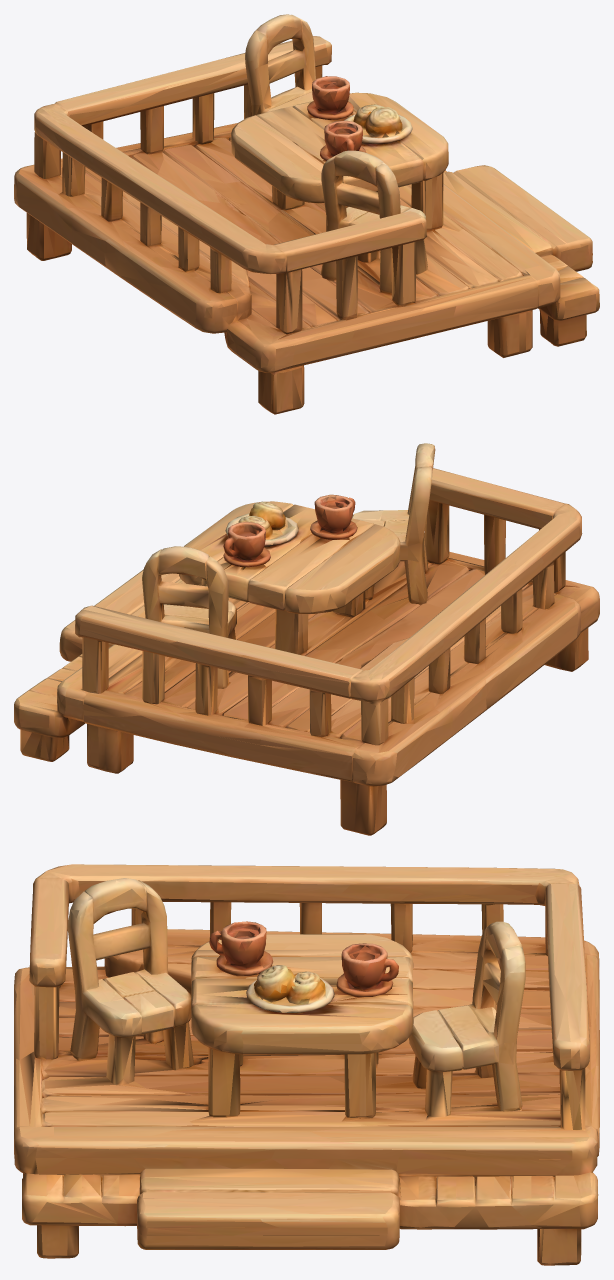
The picture shows the model from 3 angles, top to bottom: view 1: azimuth 30°, elevation 25°; view 2: azimuth 150°, elevation 25°; view 3: azimuth 270°, elevation 25°; orthographic projection. The views are drawn at different scales.
Parts seen in each view (by area): view 1: F05-coffee-terrace; view 2: F05-coffee-terrace; view 3: F05-coffee-terrace.
Part boxes in pixels (x1,y1,x2,y2): F05-coffee-terrace: (14,14,599,414); F05-coffee-terrace: (14,443,599,835); F05-coffee-terrace: (14,864,599,1265).
Size of the model in its own units: 2.76 by 1.4 by 2.83.
Materials: 1 (1 with a texture image).
